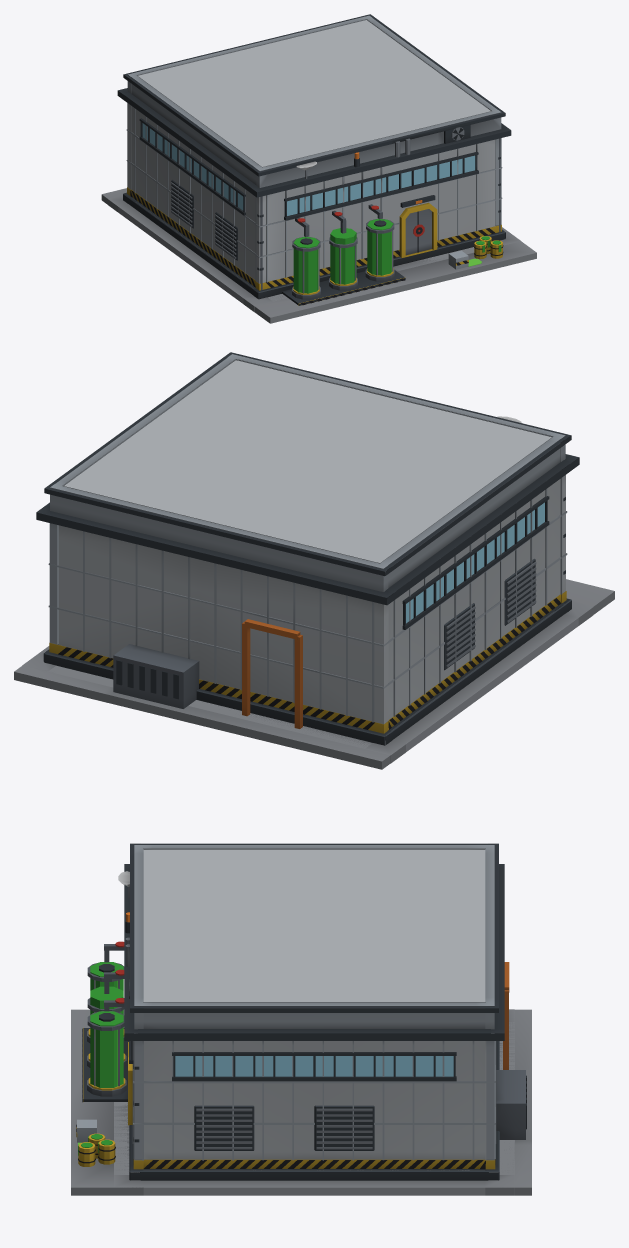
Rendered from MutantSodaFloor.fbx.
3 views of the same model, one above another, from view 1: azimuth 30°, elevation 25°; view 2: azimuth 150°, elevation 25°; view 3: azimuth 270°, elevation 25° (orthographic). The views are drawn at different scales.
Visible parts, largest first — view 1: LB_S_All, LB_F_Rings, LB_F_Smooth, LB_F_Quiet, LB_F_Glass, LB_F_Props; view 2: LB_F_Rings, LB_S_All, LB_F_Smooth, LB_F_Quiet, LB_F_Glass; view 3: LB_S_All, LB_F_Rings, LB_F_Smooth, LB_F_Quiet, LB_F_Glass, LB_F_Props.
Boxes of the visible parts, <box> form: LB_S_All: <box>108,20,520,311</box>; LB_F_Rings: <box>127,15,501,290</box>; LB_F_Smooth: <box>101,15,536,323</box>; LB_F_Quiet: <box>102,14,536,317</box>; LB_F_Glass: <box>142,123,481,289</box>; LB_F_Props: <box>292,125,502,299</box>; LB_F_Rings: <box>49,354,566,733</box>; LB_S_All: <box>22,360,592,763</box>; LB_F_Smooth: <box>14,353,614,769</box>; LB_F_Quiet: <box>14,352,614,761</box>; LB_F_Glass: <box>406,502,544,623</box>; LB_S_All: <box>90,849,514,1195</box>; LB_F_Rings: <box>133,845,525,1170</box>; LB_F_Smooth: <box>71,843,531,1195</box>; LB_F_Quiet: <box>71,843,531,1187</box>; LB_F_Glass: <box>78,912,453,1144</box>; LB_F_Props: <box>77,871,132,1166</box>.
Size of the model in its own units: 60 by 20 by 60.
